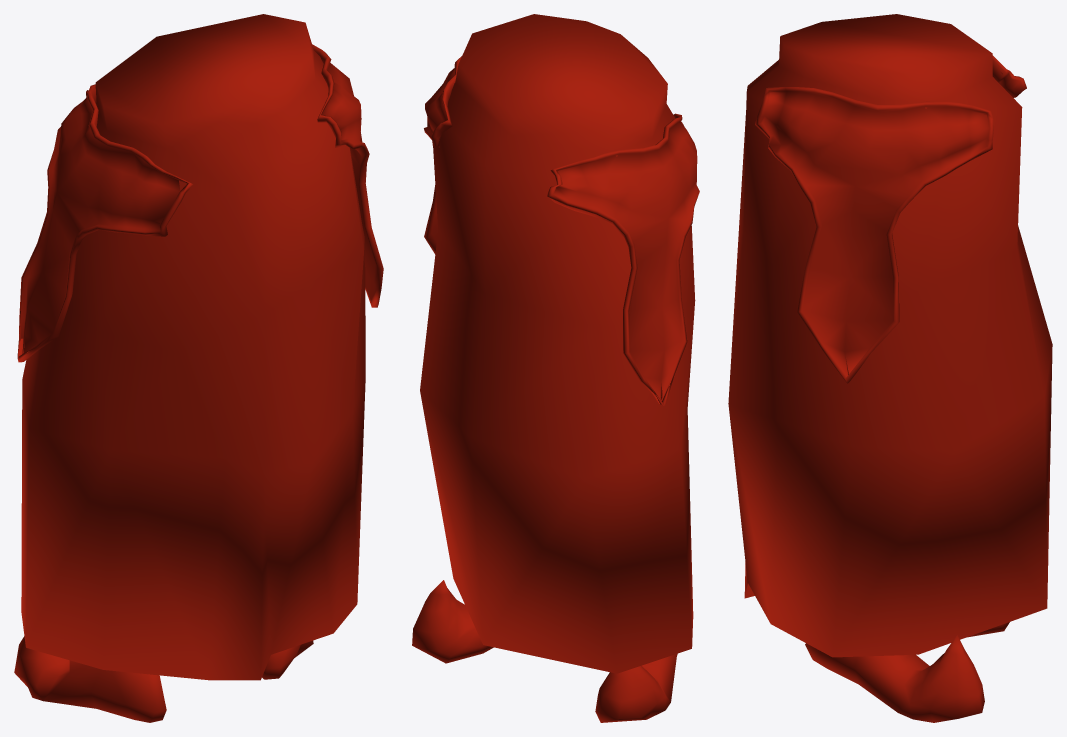
File: bot_000133.obj
The picture shows the model from 3 angles, left to right: view 1: azimuth 30°, elevation 25°; view 2: azimuth 150°, elevation 25°; view 3: azimuth 270°, elevation 25°; orthographic projection. The views are drawn at different scales.
Visible parts, largest first — view 1: LowPoly_Warlock.004_Plane.004; view 2: LowPoly_Warlock.004_Plane.004; view 3: LowPoly_Warlock.004_Plane.004.
Boxes of the visible parts, bbox=[...] form: LowPoly_Warlock.004_Plane.004: bbox=[14, 14, 383, 722]; LowPoly_Warlock.004_Plane.004: bbox=[412, 14, 699, 722]; LowPoly_Warlock.004_Plane.004: bbox=[728, 14, 1052, 722].
Bounding box in the file's own units: 0.568 × 1.14 × 0.5109.
